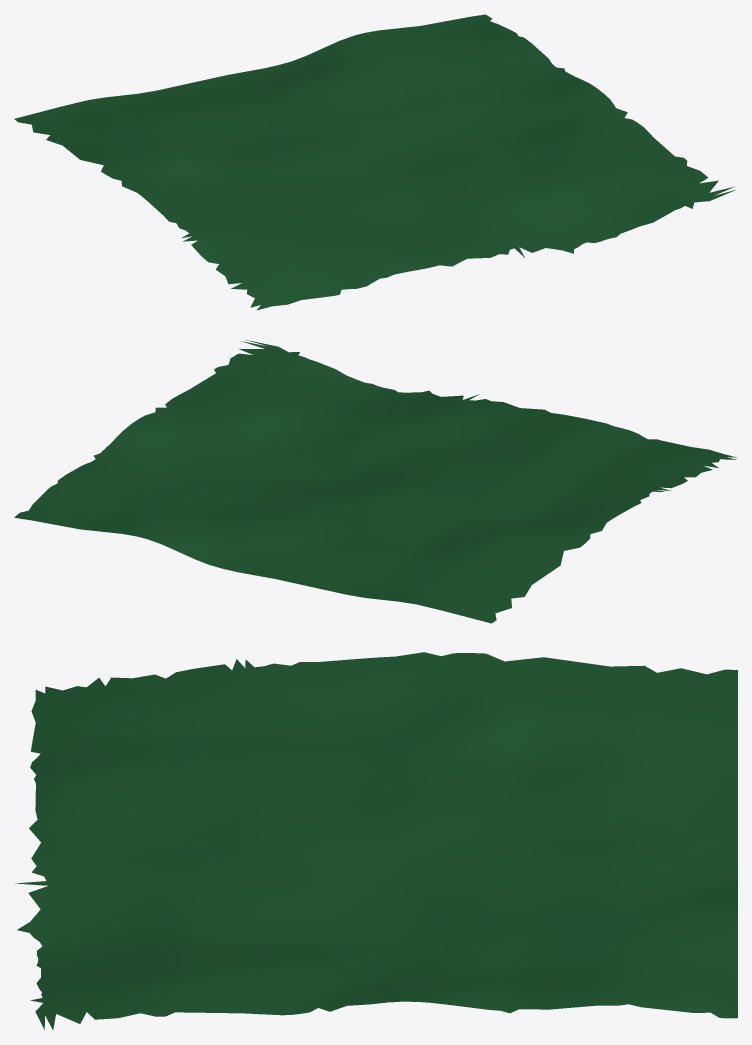
Rendered from payo_land_xm3_ym4_lod1.glb.
3 renders of one model, top to bottom at view 1: azimuth 30°, elevation 25°; view 2: azimuth 150°, elevation 25°; view 3: azimuth 270°, elevation 25°, orthographic. The views are drawn at different scales.
Parts seen in each view (by area): view 1: payo_land_xm3_ym4; view 2: payo_land_xm3_ym4; view 3: payo_land_xm3_ym4.
Part boxes in pixels (x1,y1,x2,y2): payo_land_xm3_ym4: (14, 14, 735, 310); payo_land_xm3_ym4: (14, 339, 736, 623); payo_land_xm3_ym4: (15, 652, 737, 1030).
Bounding box in the file's own units: 269 × 21.8 × 238.
